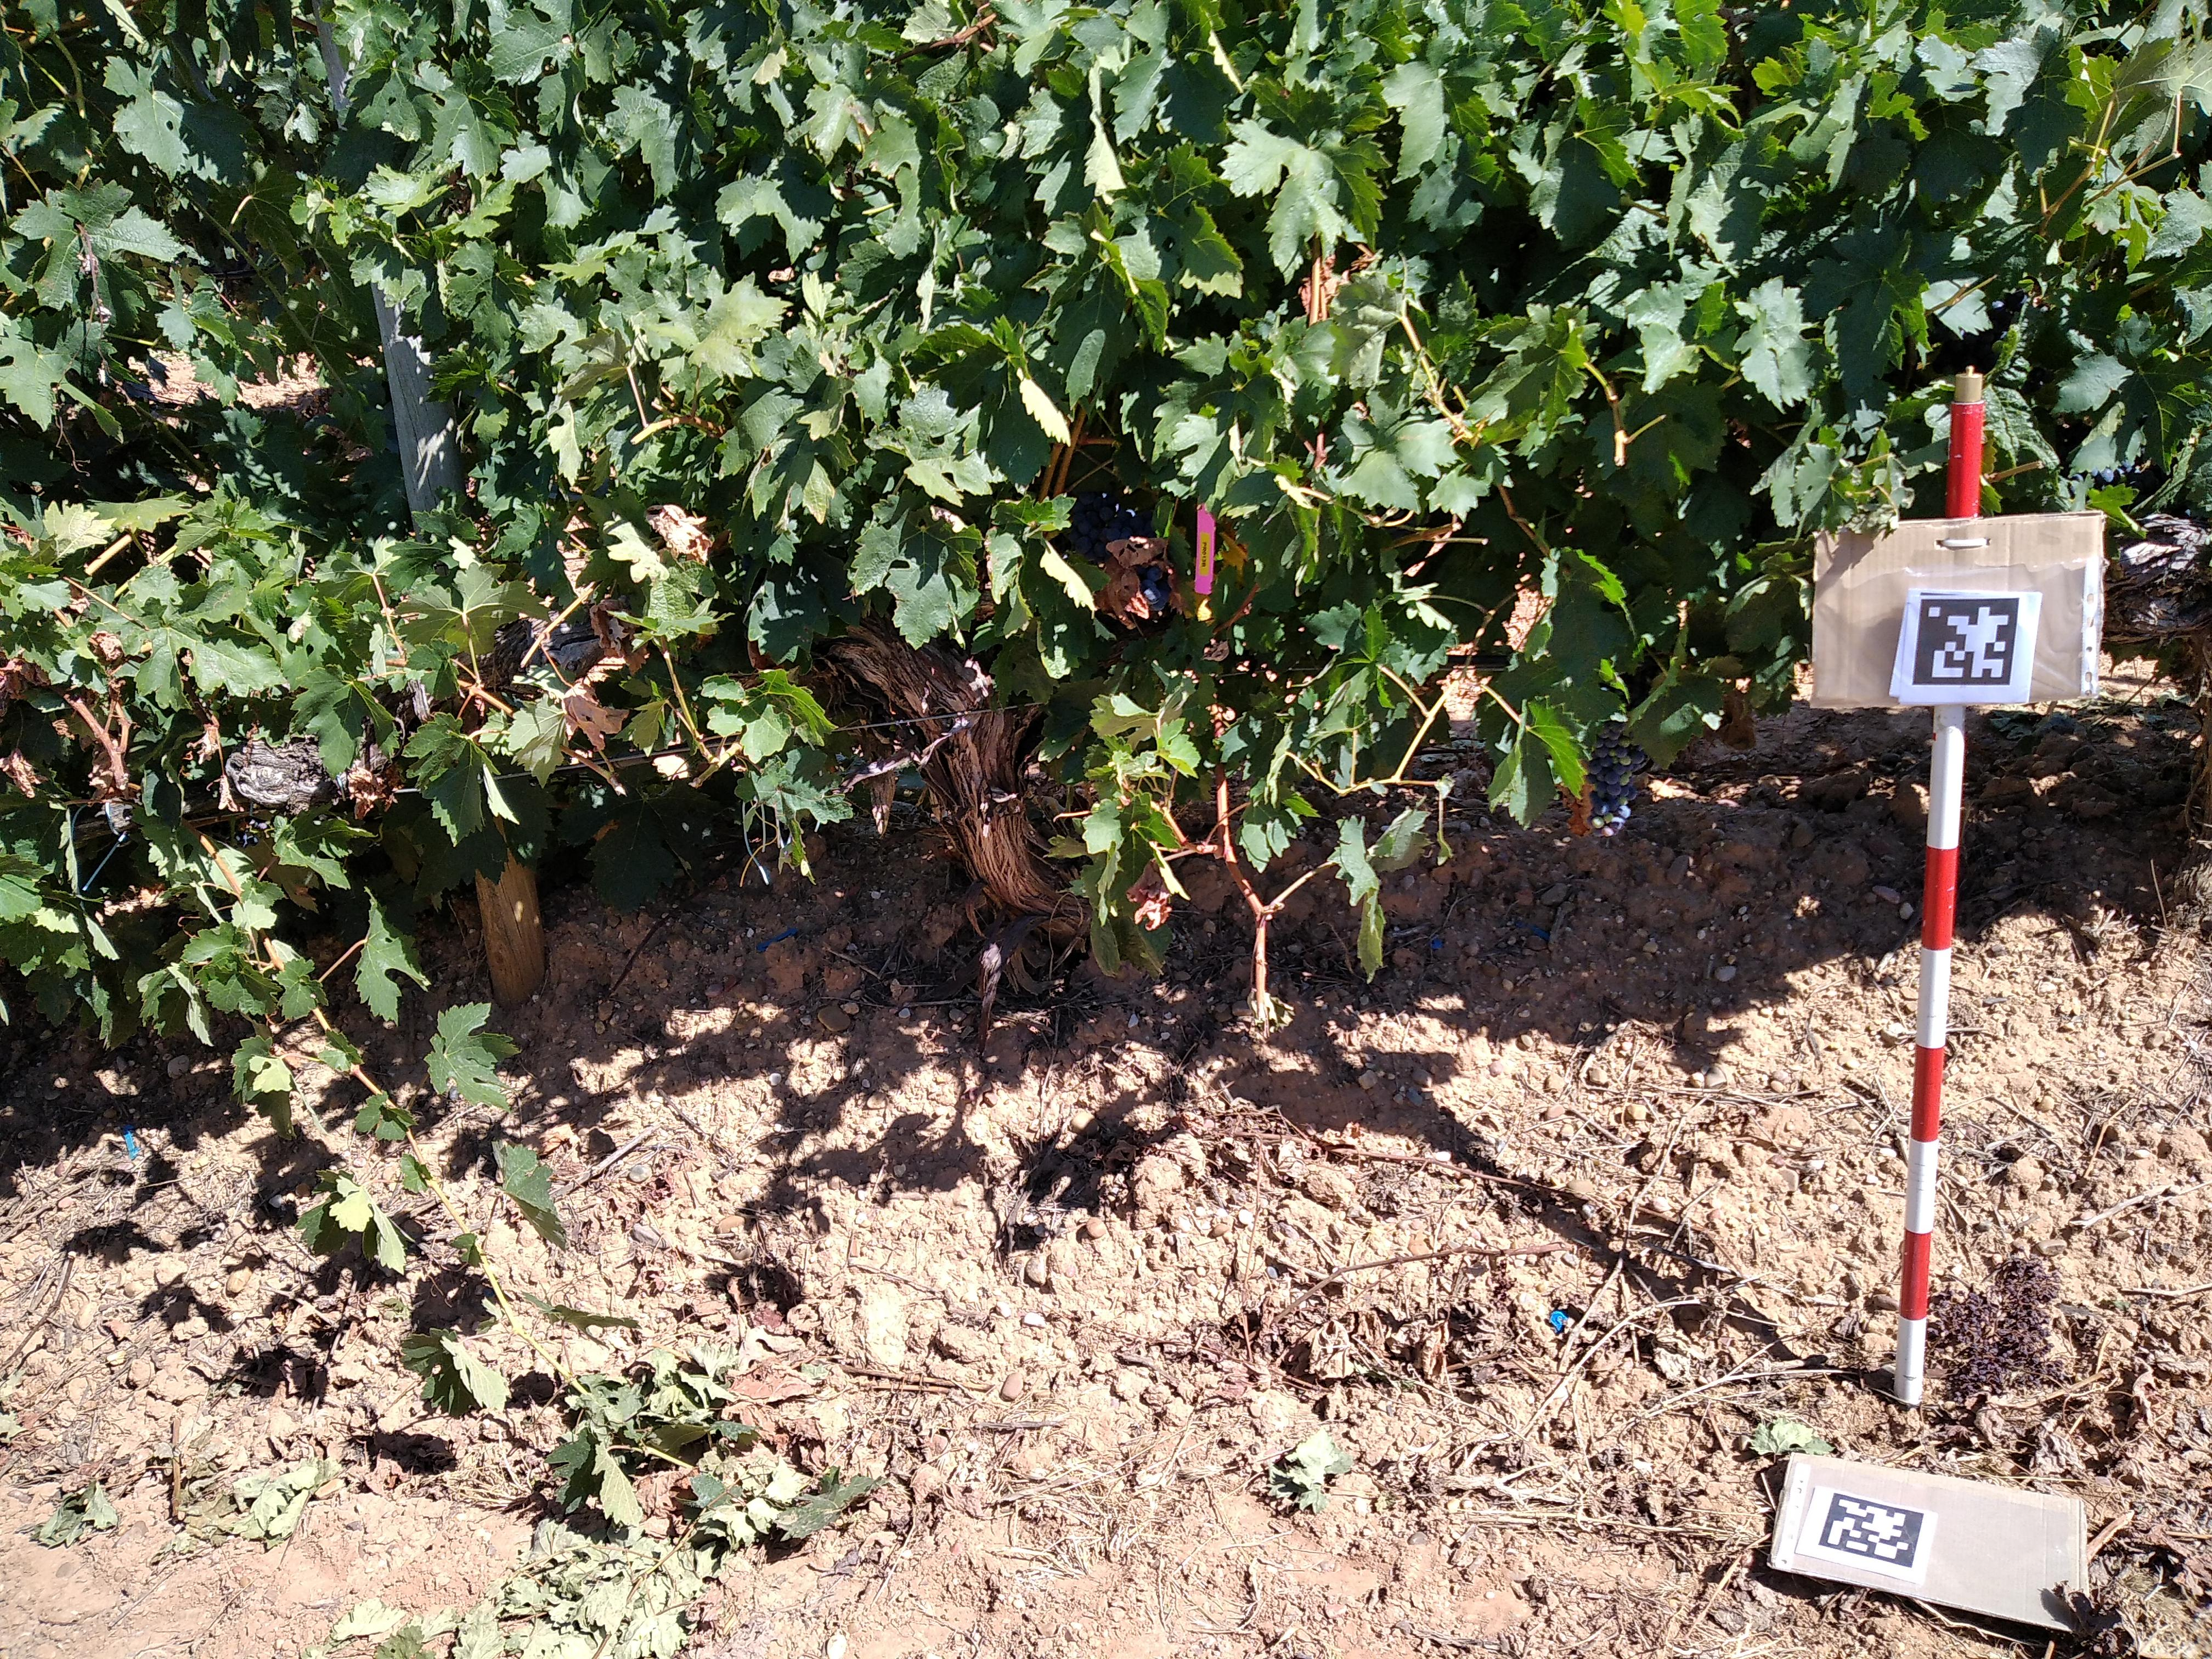0: (1587, 728, 1651, 838), (1068, 495, 1125, 552), (2071, 462, 2137, 488), (1143, 568, 1172, 613), (1125, 504, 1155, 540), (233, 819, 270, 845)
qr: (1919, 599, 2010, 685)
